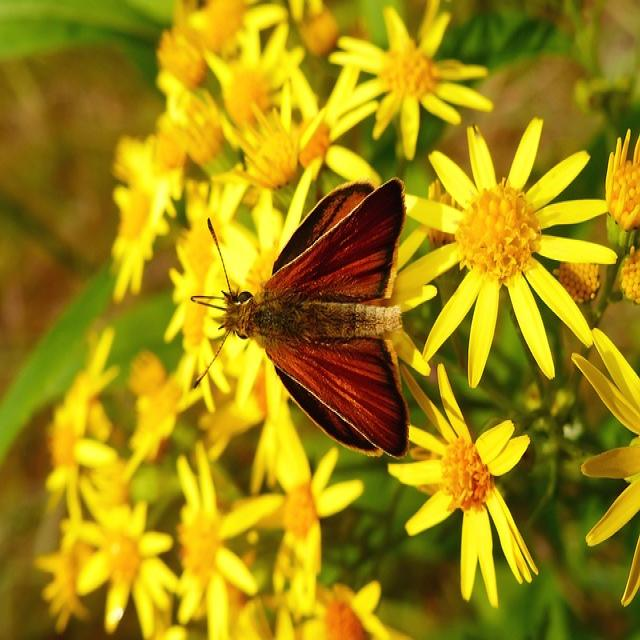butterfly: (209, 181, 415, 459)
